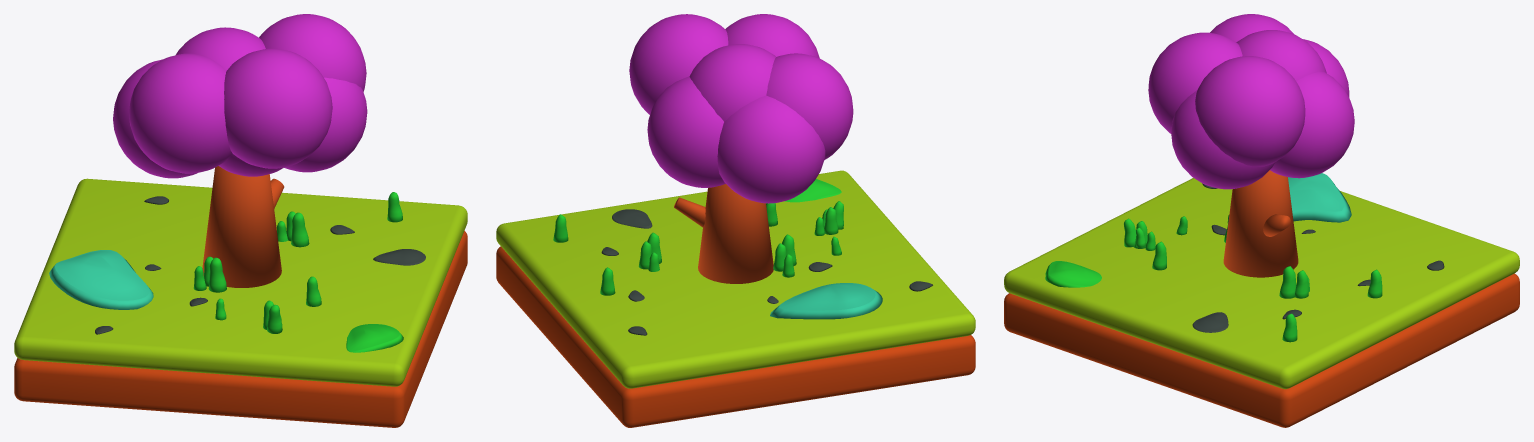
The model's file is first-study.obj.
3 views of the same model, side by side, from view 1: azimuth 30°, elevation 25°; view 2: azimuth 150°, elevation 25°; view 3: azimuth 270°, elevation 25° (orthographic). The views are drawn at different scales.
Parts seen in each view (by area): view 1: Cube.001, Cube, Sphere.006, Sphere.005, Cylinder, Sphere.003, Circle.021, Sphere.004, Sphere.007, Sphere.001, Circle.027, Sphere.002 (+3 smaller); view 2: Cube.001, Cube, Sphere.001, Sphere, Cylinder, Sphere.003, Sphere.005, Sphere.007, Circle.021, Sphere.006, Circle.027, Circle.022 (+1 smaller); view 3: Cube.001, Cube, Sphere.003, Cylinder, Sphere, Sphere.006, Sphere.004, Sphere.007, Circle.021, Sphere.005, Circle.027, Sphere.001 (+1 smaller).
Part boxes in pixels (x1,y1,x2,y2): Cube.001: (14,178,467,386); Cube: (14,231,467,427); Sphere.006: (224,48,332,168); Sphere.005: (129,53,232,173); Cylinder: (202,166,281,287); Sphere.003: (259,14,366,91); Circle.021: (49,250,153,309); Sphere.004: (284,77,367,172); Sphere.007: (176,27,265,70); Sphere.001: (113,59,197,178); Circle.027: (346,324,403,352); Sphere.002: (218,154,283,176); Cube.001: (496,170,975,388); Cube: (496,246,975,427); Sphere.001: (717,95,825,203); Sphere: (647,76,725,187); Cylinder: (698,184,773,283); Sphere.003: (629,14,728,114); Sphere.005: (766,53,853,159); Sphere.007: (689,44,775,121); Circle.021: (770,283,882,319); Sphere.006: (725,14,819,58); Circle.027: (785,179,841,202); Circle.022: (612,209,652,228); Cube.001: (1004,178,1519,389); Cube: (1004,273,1519,427); Sphere.003: (1195,56,1305,166); Cylinder: (1223,170,1298,277); Sphere: (1270,71,1354,178); Sphere.006: (1148,32,1242,133); Sphere.004: (1171,90,1275,189); Sphere.007: (1236,30,1326,81); Circle.021: (1288,173,1351,222); Sphere.005: (1210,14,1294,42); Circle.027: (1045,261,1101,287); Sphere.001: (1303,39,1349,97).
Size of what is drawn, in the model's own units: 2.78 by 1.71 by 2.78.
